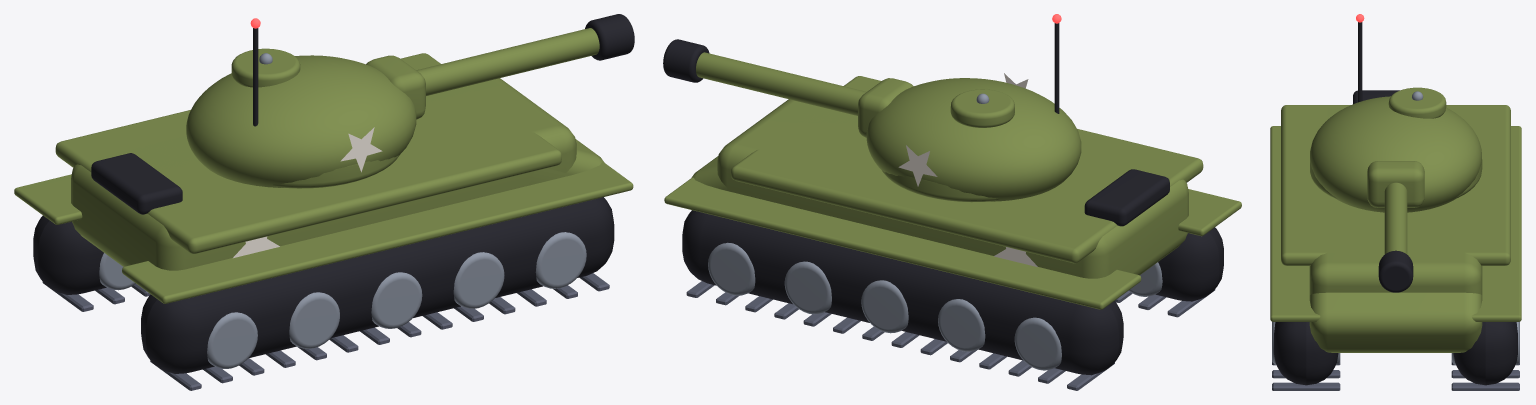
Rendered from tank.glb.
3 views of the same model, side by side, from view 1: azimuth 30°, elevation 25°; view 2: azimuth 150°, elevation 25°; view 3: azimuth 270°, elevation 25° (orthographic). The views are drawn at different scales.
Visible parts, largest first — view 1: tank, turret, barrel; view 2: tank, turret, barrel; view 3: tank, turret, barrel.
Boxes of the visible parts, box(x1,y1,x2,y2) form: tank: box(14, 53, 633, 390); turret: box(186, 18, 425, 188); barrel: box(416, 14, 634, 95); tank: box(664, 76, 1241, 390); turret: box(858, 14, 1081, 202); barrel: box(663, 39, 866, 115); tank: box(1270, 90, 1521, 390); turret: box(1310, 14, 1482, 212); barrel: box(1378, 182, 1413, 292).
Bounding box in the file's own units: 7.2 × 3.91 × 3.5.
1 material, 1 textured.
